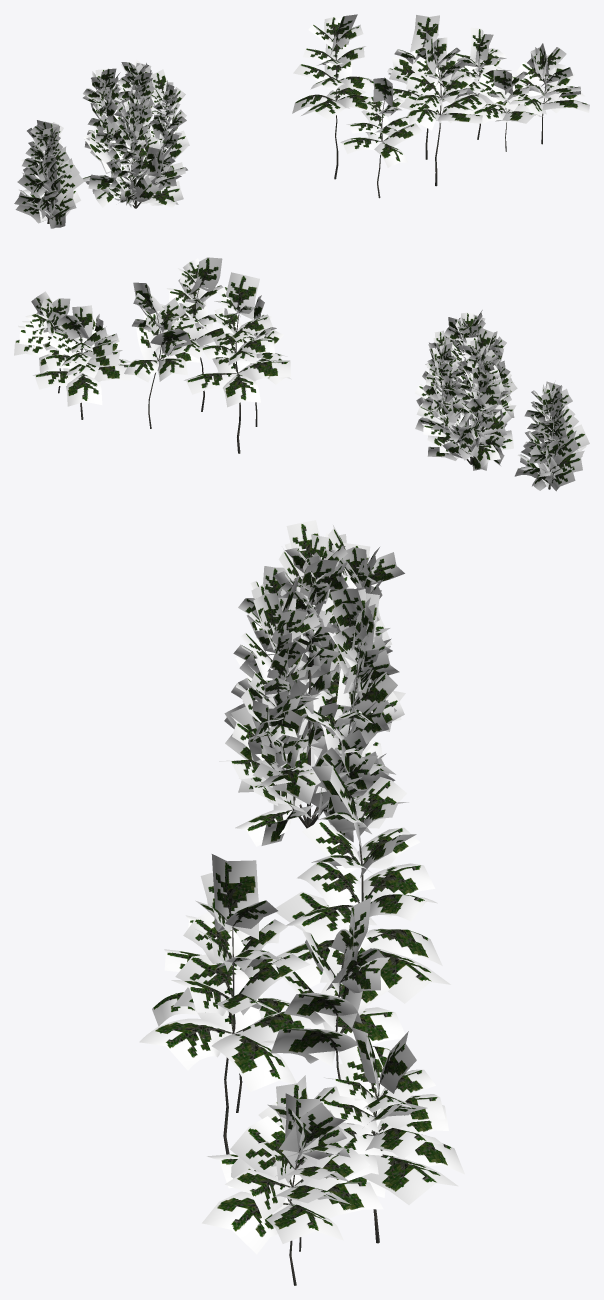
Rendered from Bushes04.fbx.
The picture shows the model from 3 angles, top to bottom: view 1: azimuth 30°, elevation 25°; view 2: azimuth 150°, elevation 25°; view 3: azimuth 270°, elevation 25°; orthographic projection. The views are drawn at different scales.
Visible parts, largest first — view 1: ForestBush08LOD0, ForestBush06LOD0, ForestBush09LOD0, ForestBush05LOD0; view 2: ForestBush08LOD0, ForestBush06LOD0, ForestBush09LOD0, ForestBush05LOD0; view 3: ForestBush08LOD0, ForestBush06LOD0, ForestBush09LOD0.
Boxes of the visible parts, x1=… form: ForestBush08LOD0: x1=292, y1=14, x2=482, y2=198; ForestBush06LOD0: x1=82, y1=59, x2=189, y2=208; ForestBush09LOD0: x1=442, y1=27, x2=589, y2=151; ForestBush05LOD0: x1=14, y1=120, x2=84, y2=228; ForestBush08LOD0: x1=124, y1=257, x2=291, y2=453; ForestBush06LOD0: x1=415, y1=310, x2=517, y2=470; ForestBush09LOD0: x1=14, y1=291, x2=131, y2=419; ForestBush05LOD0: x1=514, y1=381, x2=589, y2=491; ForestBush08LOD0: x1=139, y1=765, x2=450, y2=1154; ForestBush06LOD0: x1=219, y1=520, x2=404, y2=846; ForestBush09LOD0: x1=202, y1=1027, x2=464, y2=1285.
Size of what is drawn, in the model's own units: 2404 by 744 by 609.
